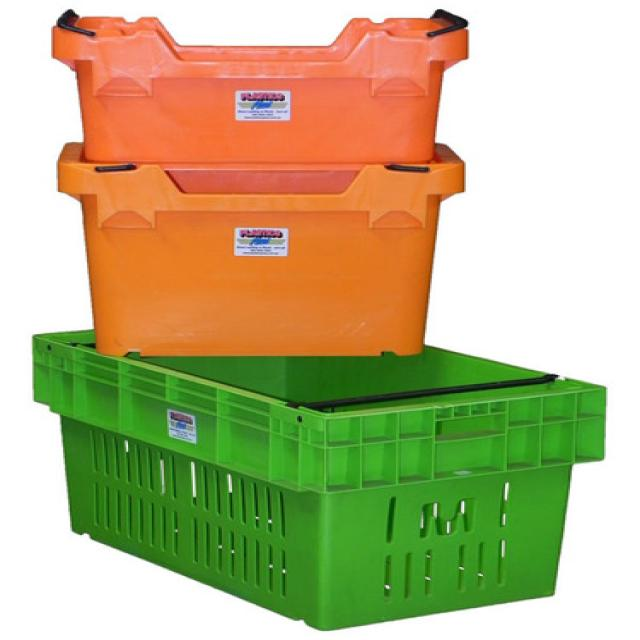basket: (22, 329, 609, 640), (58, 145, 466, 357), (53, 15, 469, 163)
